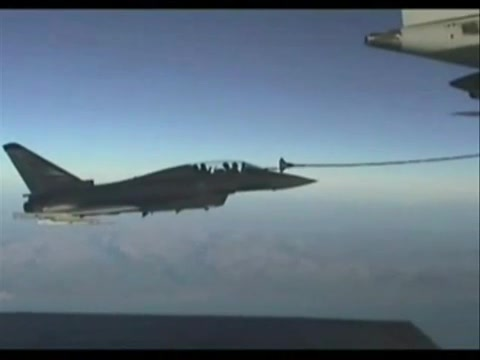aeroplane: (3, 143, 319, 222)
